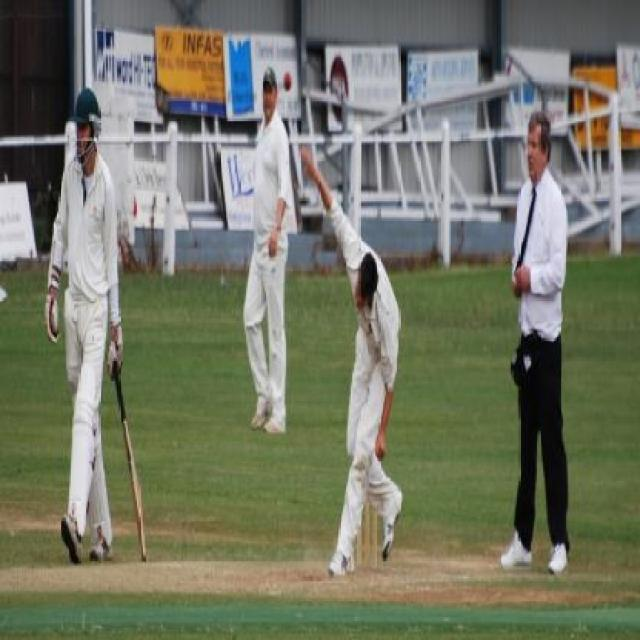-: (278, 62, 301, 107)
